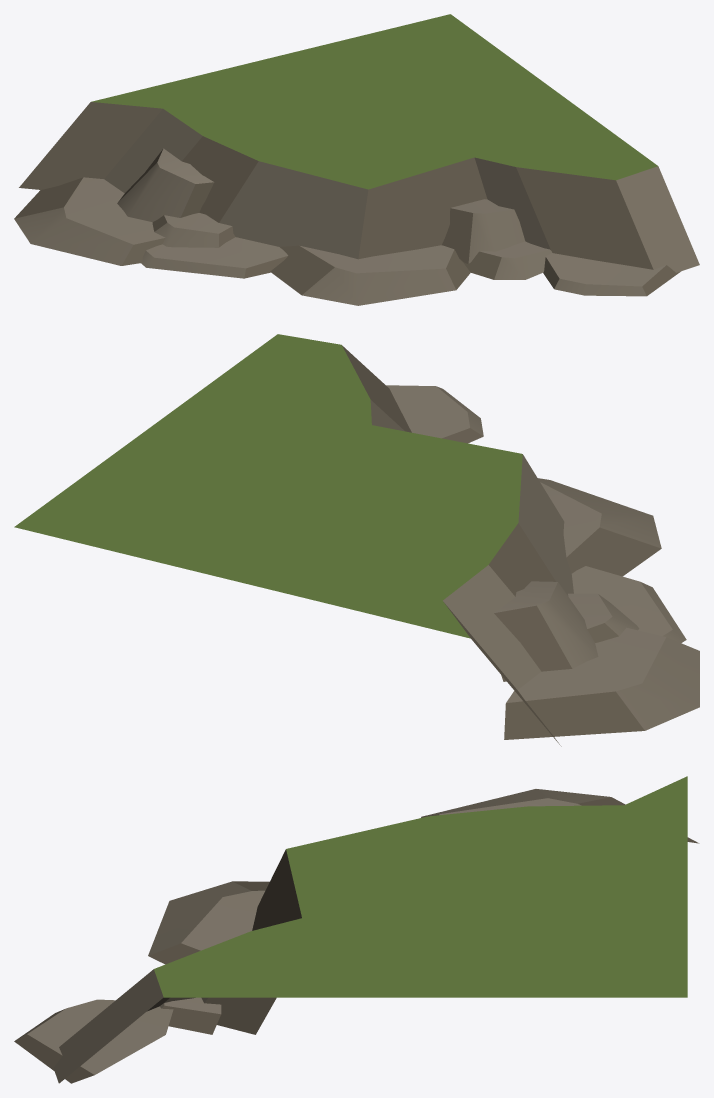
Rendered from SF_Env_River_Corner_05.fbx.
3 renders of one model, top to bottom at view 1: azimuth 30°, elevation 25°; view 2: azimuth 150°, elevation 25°; view 3: azimuth 270°, elevation 25°, orthographic. The views are drawn at different scales.
Visible parts, largest first — view 1: SF_Env_River_Corner_05; view 2: SF_Env_River_Corner_05; view 3: SF_Env_River_Corner_05.
Boxes of the visible parts, left/top/right/bottom form: SF_Env_River_Corner_05: left=14, top=14, right=699, bottom=305; SF_Env_River_Corner_05: left=14, top=334, right=699, bottom=746; SF_Env_River_Corner_05: left=14, top=776, right=699, bottom=1083.
Bounding box in the file's own units: 16.79 × 2.44 × 16.37.
